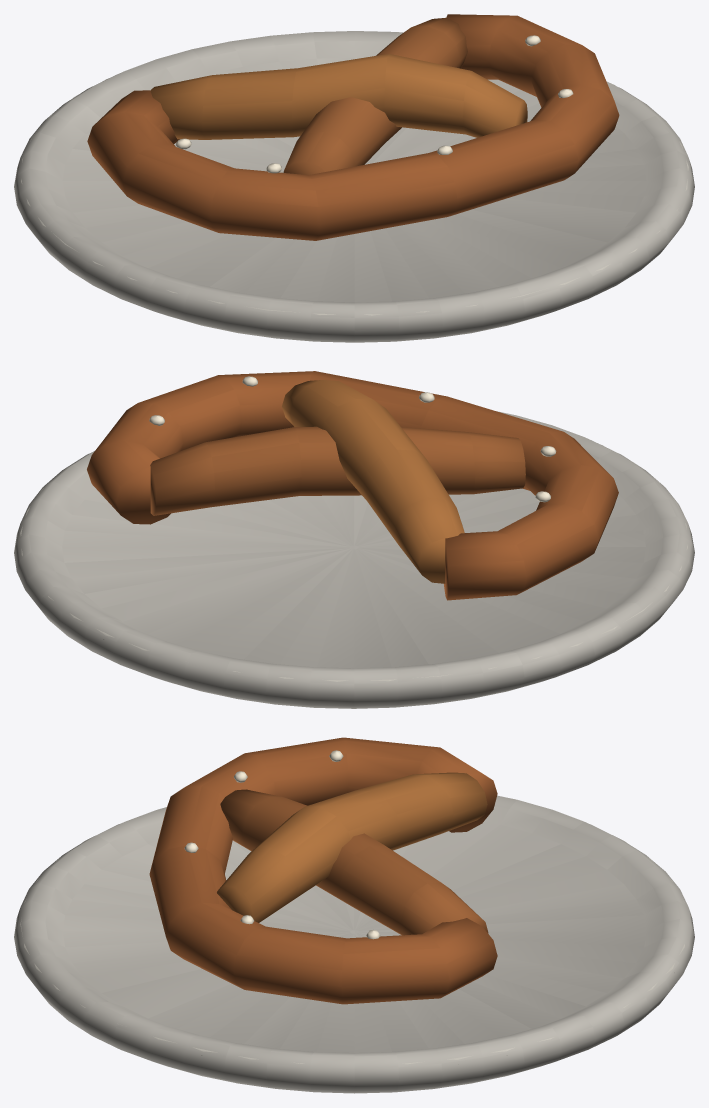
File: pretzel.glb
3 renders of one model, top to bottom at view 1: azimuth 30°, elevation 25°; view 2: azimuth 150°, elevation 25°; view 3: azimuth 270°, elevation 25°, orthographic.
Parts seen in each view (by area): view 1: Shared_milky_white_round_glass_plate, Pretzel_one_continuous_lower_U, Pretzel_left_dough_end_crosses_right, Pretzel_right_dough_end_crosses_left, Shared_delicate_milk_glass_edge; view 2: Shared_milky_white_round_glass_plate, Pretzel_one_continuous_lower_U, Pretzel_right_dough_end_crosses_left, Pretzel_left_dough_end_crosses_right; view 3: Shared_milky_white_round_glass_plate, Pretzel_one_continuous_lower_U, Pretzel_left_dough_end_crosses_right, Pretzel_right_dough_end_crosses_left.
Boxes of the visible parts, <box> form: Shared_milky_white_round_glass_plate: <box>14,31,694,342</box>; Pretzel_one_continuous_lower_U: <box>87,14,619,240</box>; Pretzel_left_dough_end_crosses_right: <box>150,54,527,139</box>; Pretzel_right_dough_end_crosses_left: <box>283,17,467,174</box>; Shared_delicate_milk_glass_edge: <box>21,78,688,315</box>; Shared_milky_white_round_glass_plate: <box>14,411,694,708</box>; Pretzel_one_continuous_lower_U: <box>87,371,618,600</box>; Pretzel_right_dough_end_crosses_left: <box>150,426,525,515</box>; Pretzel_left_dough_end_crosses_right: <box>282,380,464,583</box>; Shared_milky_white_round_glass_plate: <box>14,795,694,1093</box>; Pretzel_one_continuous_lower_U: <box>149,737,497,1004</box>; Pretzel_left_dough_end_crosses_right: <box>217,772,487,922</box>; Pretzel_right_dough_end_crosses_left: <box>220,789,488,935</box>.
Bounding box in the file's own units: 0.94 × 0.2616 × 0.94.
